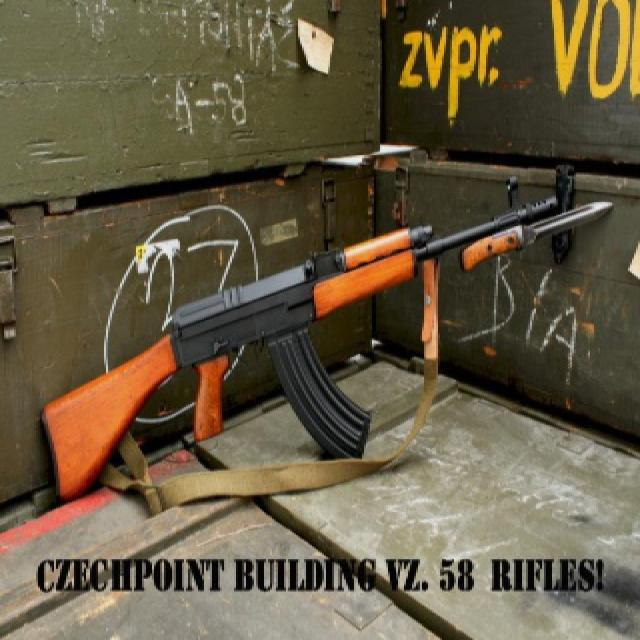rifle: (43, 166, 615, 496)
